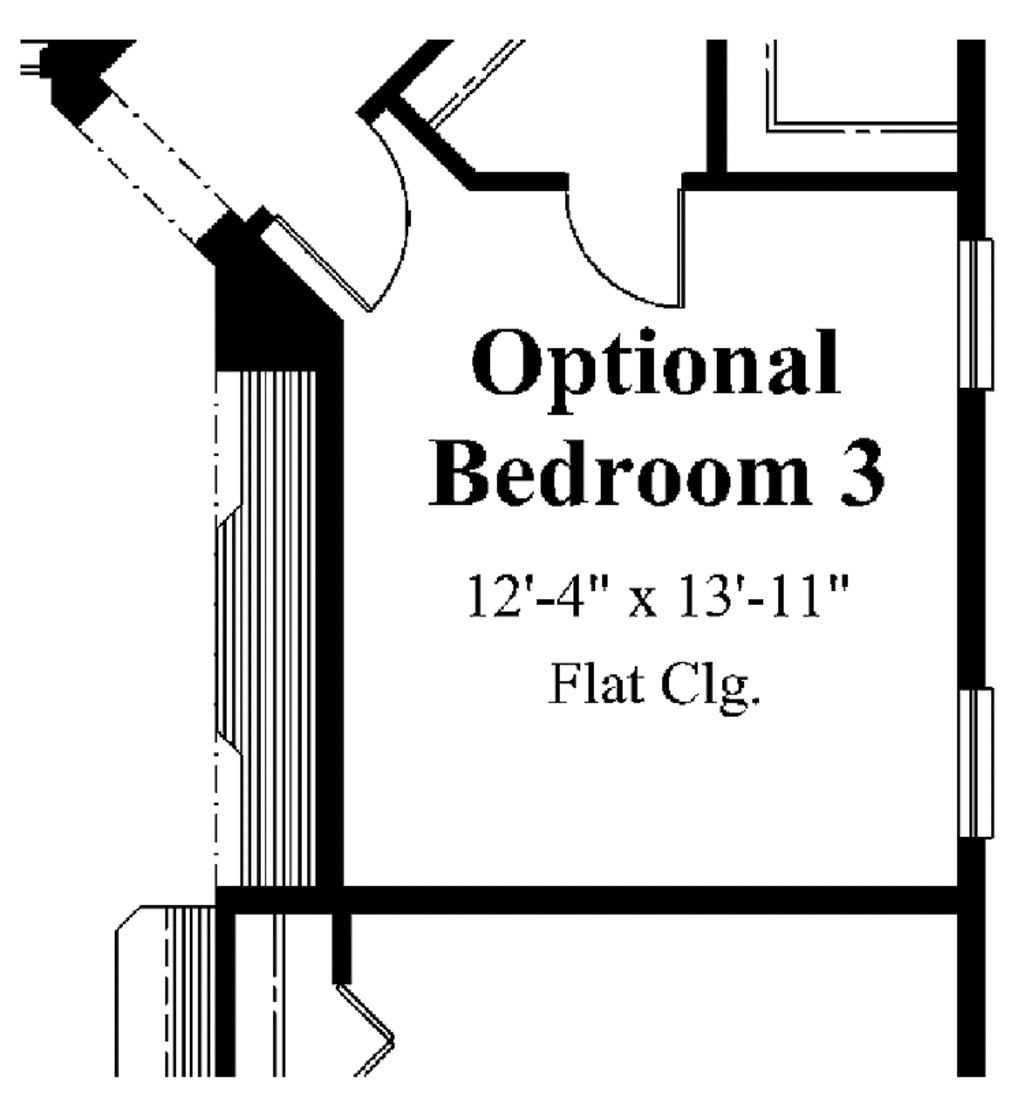door: (229, 119, 422, 319), (550, 164, 694, 331)
window: (949, 682, 999, 842), (957, 239, 999, 391)
